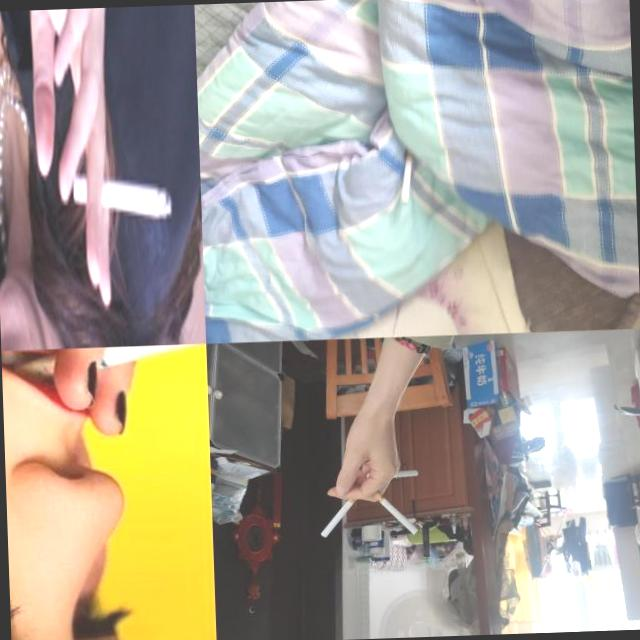smoke: (10, 344, 207, 382), (74, 167, 174, 230), (366, 484, 418, 536), (317, 492, 362, 538), (398, 146, 416, 203), (364, 468, 418, 478)
